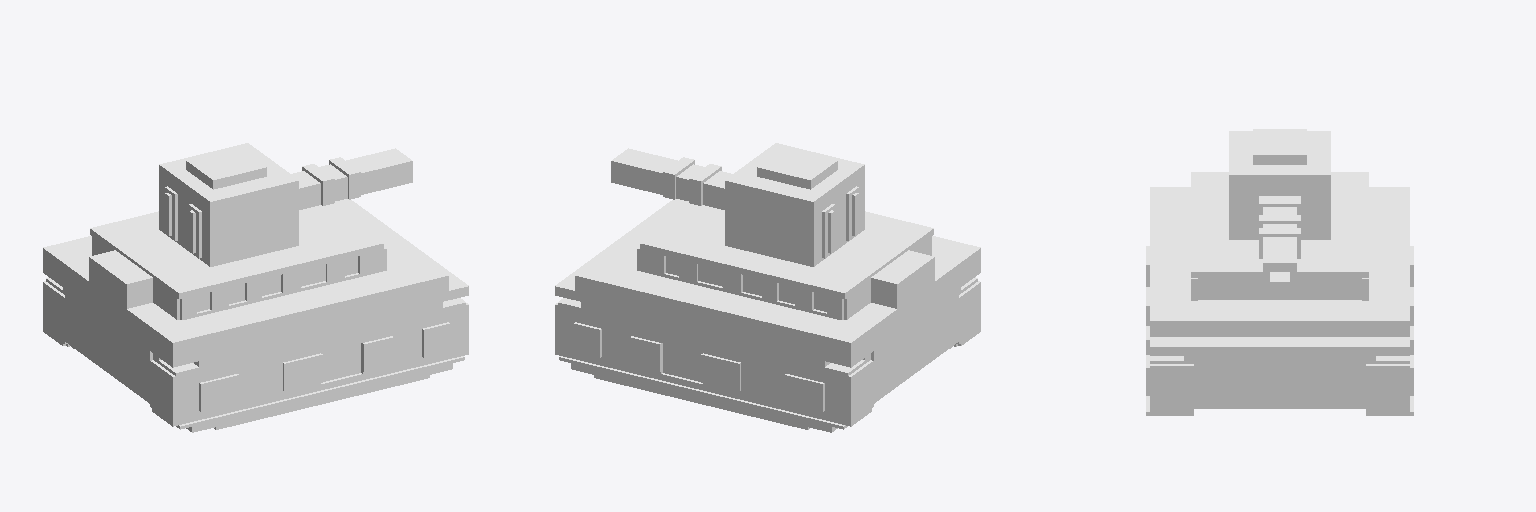
The model's file is EnemyTank.obj.
The picture shows the model from 3 angles: view 1: azimuth 30°, elevation 25°; view 2: azimuth 150°, elevation 25°; view 3: azimuth 270°, elevation 25°; orthographic projection.
Visible parts, largest first — view 1: object 1; view 2: object 1; view 3: object 1.
Part boxes in pixels (x1,y1,x2,y2): object 1: (43, 143, 468, 432); object 1: (555, 143, 980, 432); object 1: (1146, 129, 1413, 415).
Bounding box in the file's own units: 10 × 6.4 × 7.8.